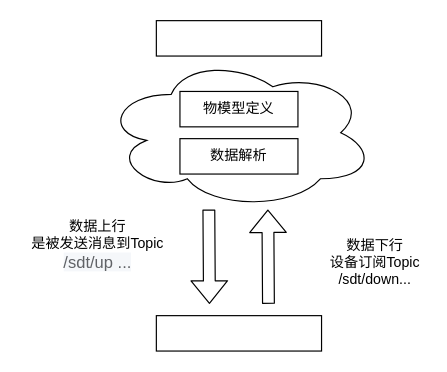
This 447x372 diagram has some shape labels left out. Here are the shapes that lost their labels. From the top down, the centre of each, then its label:
At (238,37): "云平台".
At (238,332): "设备".
